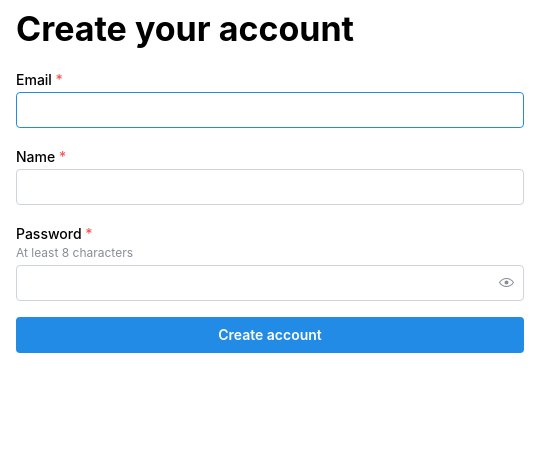
RegistrationScreen › shows a generic message when the request fails outside the API contract
Type "alice@example.com" into the field labelled "Email *" at [270, 110], box [16,92,524,128]
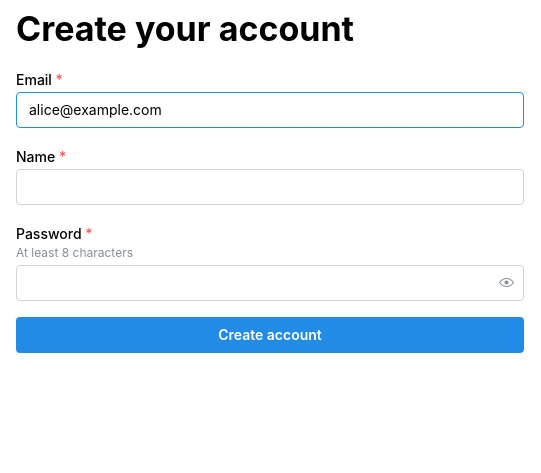
Type "Alice" into the field labelled "Name *" at [270, 187], box [16,169,524,205]
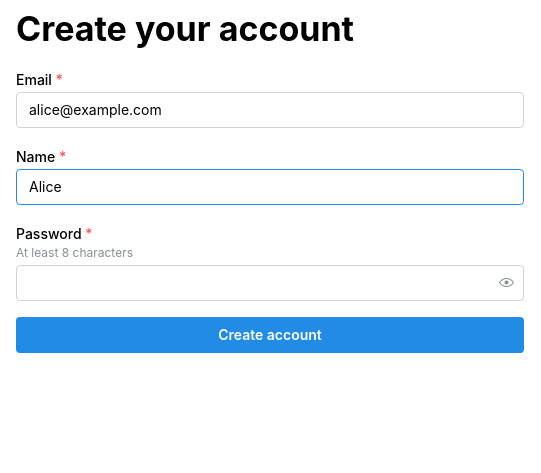
Type "a-good-password" into the password field labelled "Password *" at [270, 283], box [17,266,523,300]
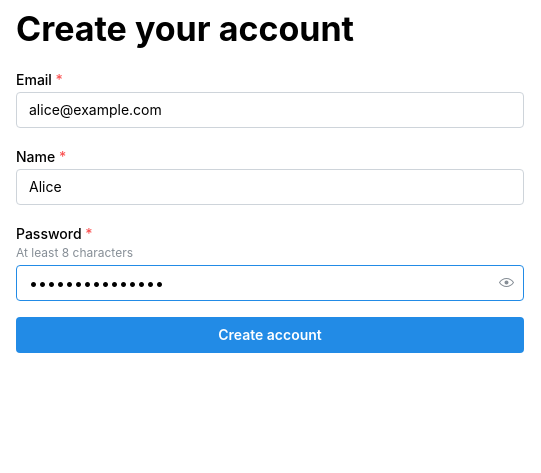
Click the button "Create account" at [270, 335], box [16,317,524,353]
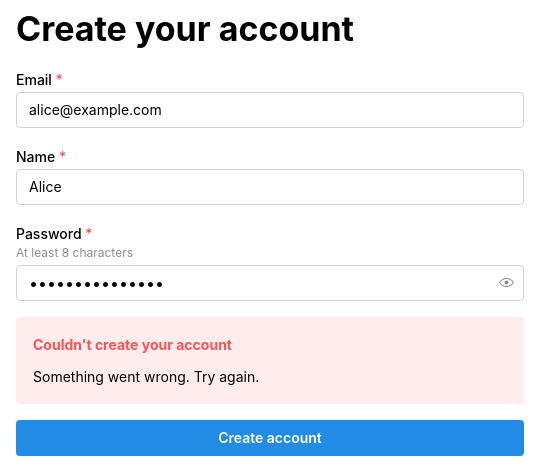
Now the text "Something went wrong. Try again." is shown, box [33,368,259,385]
